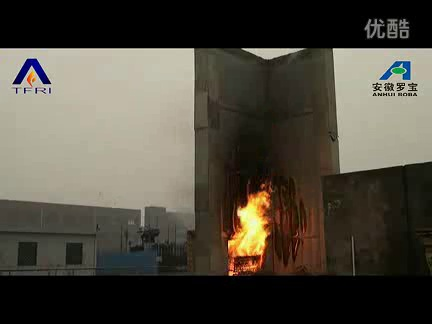fire: (222, 182, 280, 280)
